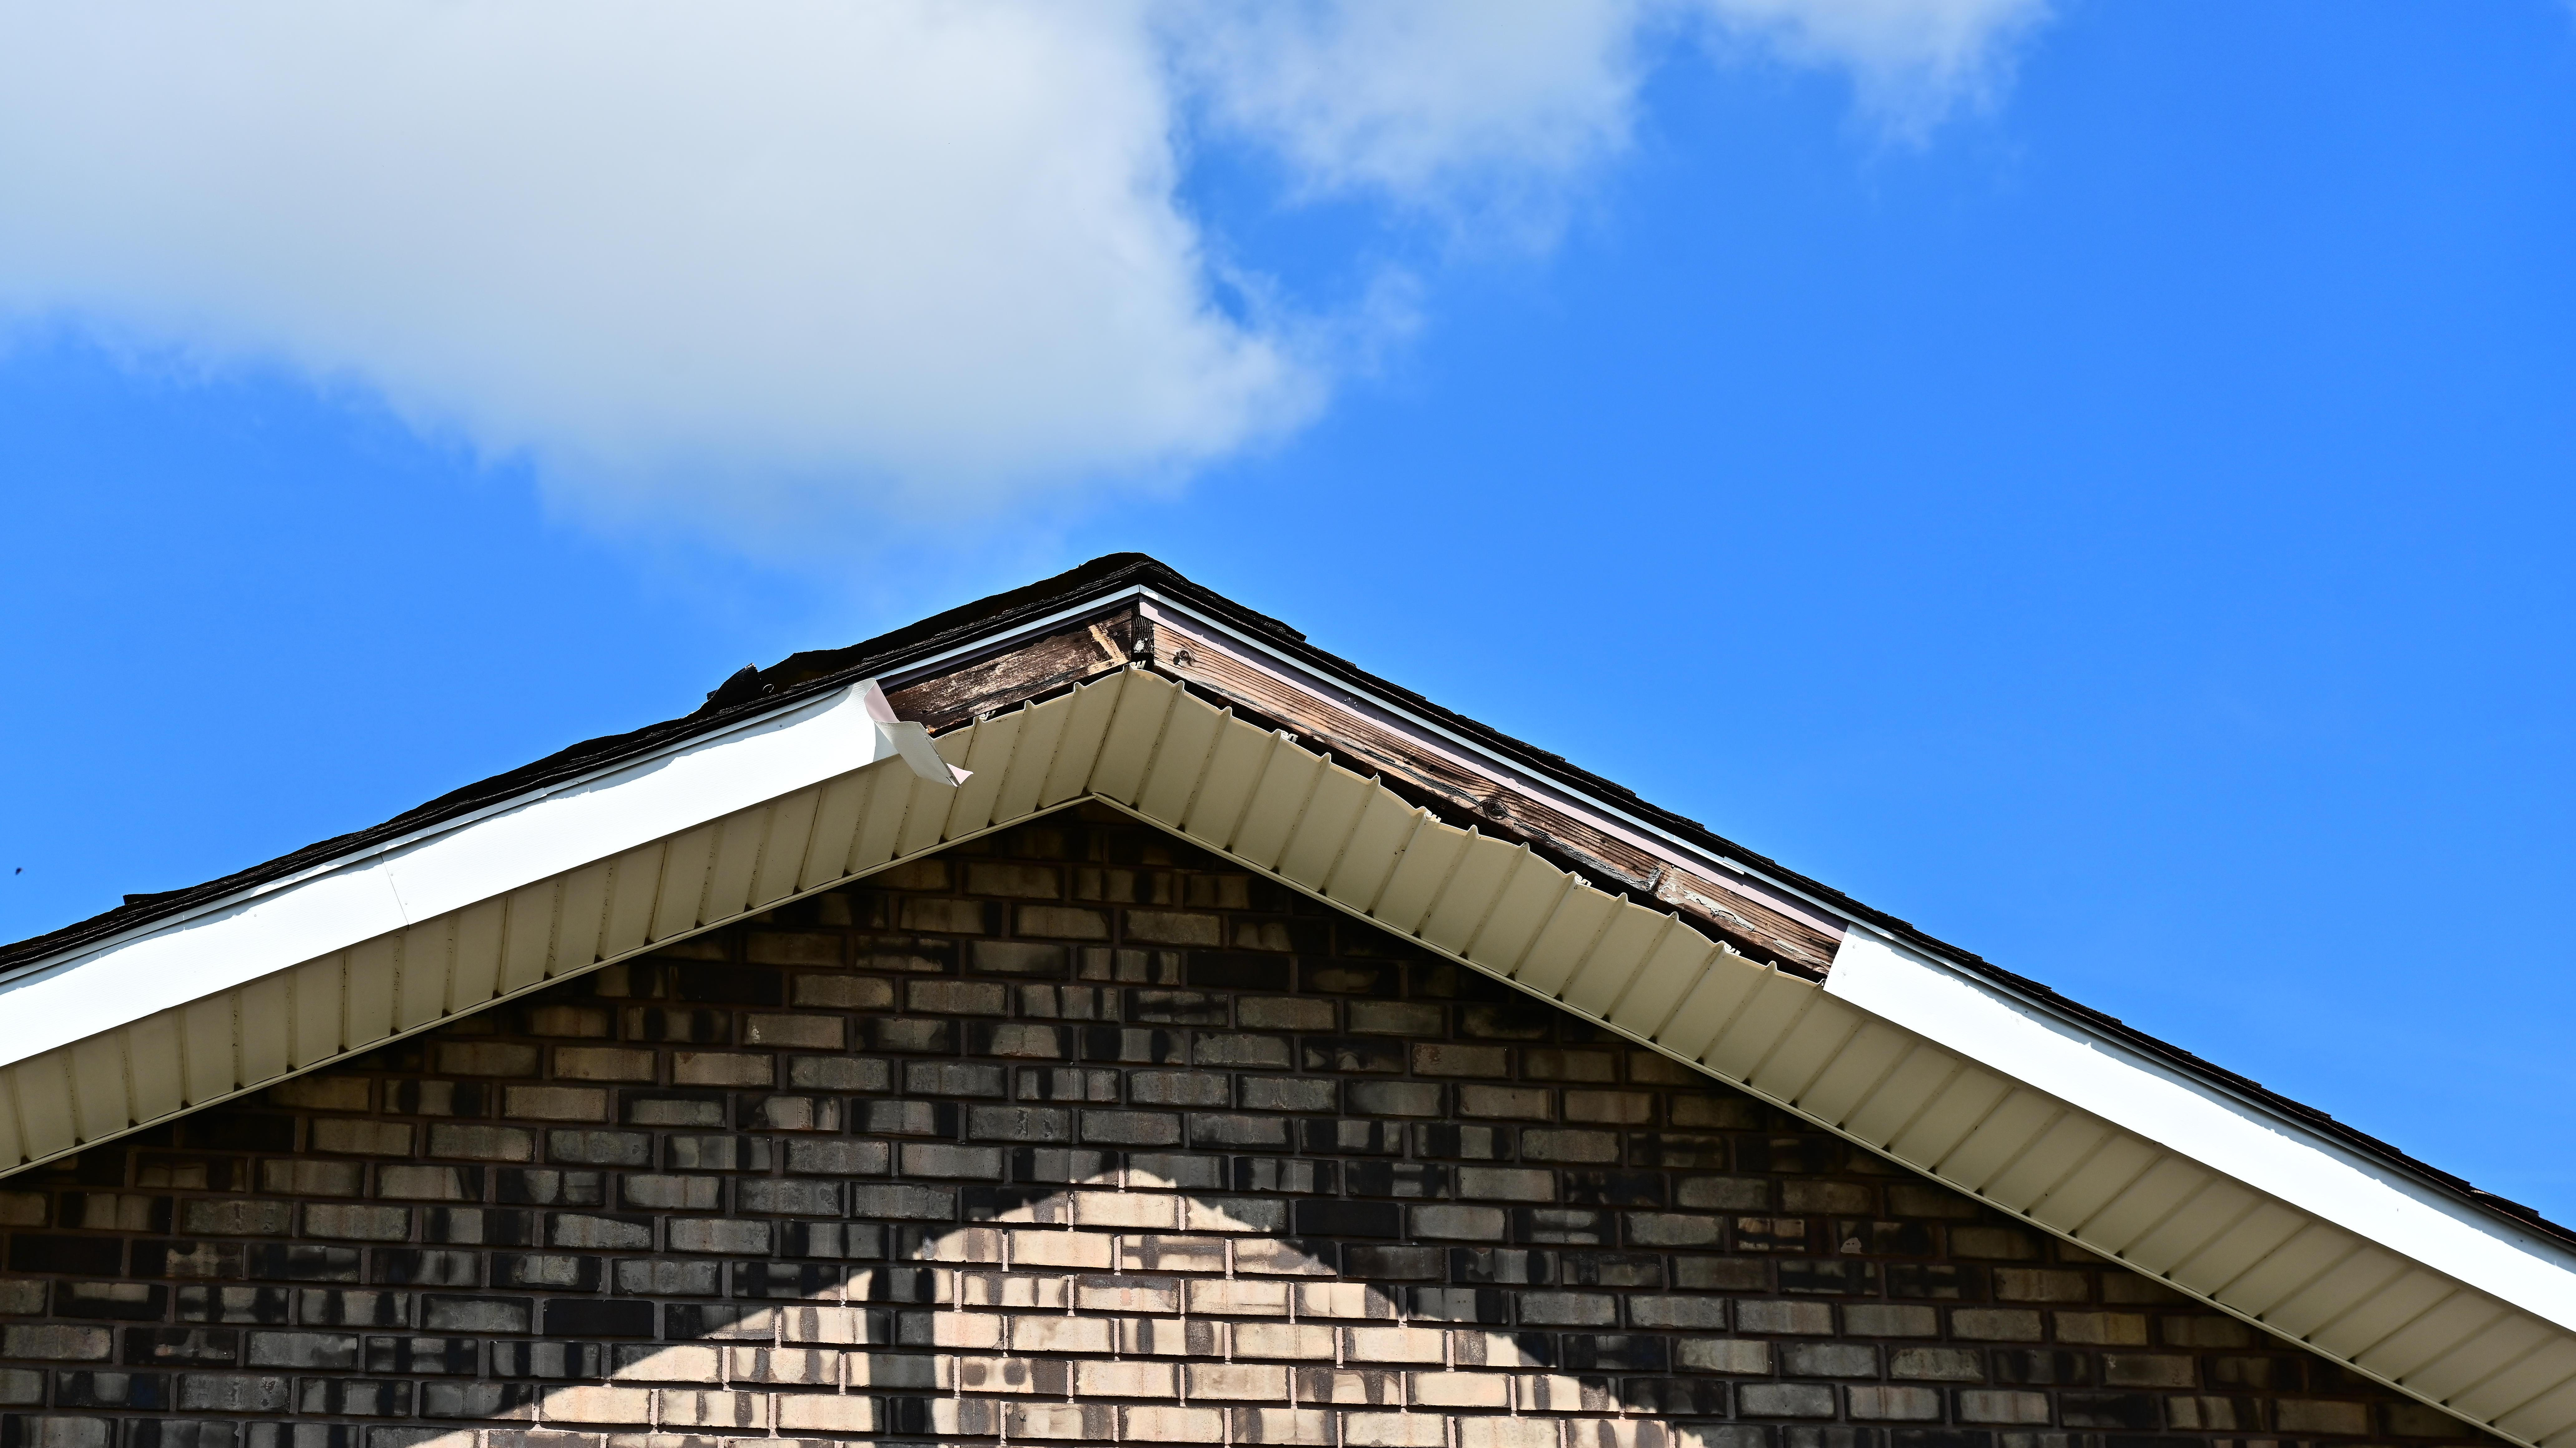minor: (2, 543, 2571, 1420)
